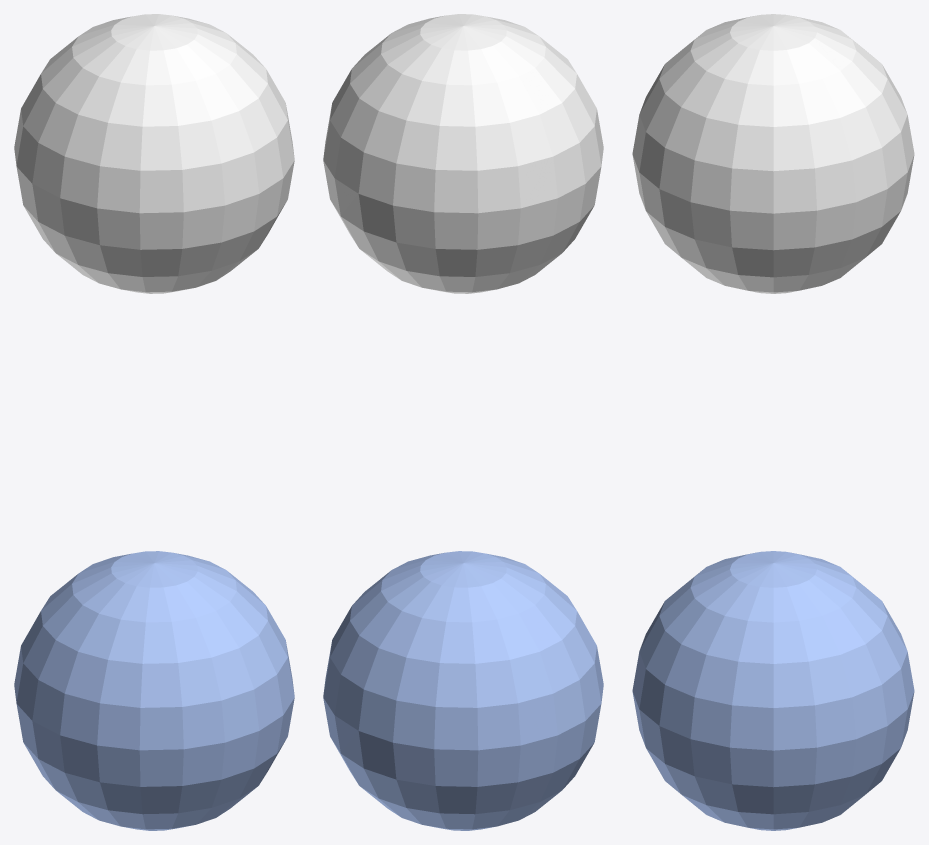
The model's file is EYE_P_LINK_mesh.dae.
The picture shows the model from 3 angles, left to right: view 1: azimuth 30°, elevation 25°; view 2: azimuth 150°, elevation 25°; view 3: azimuth 270°, elevation 25°; orthographic projection.
Parts seen in each view (by area): view 1: EYE_P_LINK (×2); view 2: EYE_P_LINK (×2); view 3: EYE_P_LINK (×2).
Boxes of the visible parts, x1,y1,x2,y2 form: EYE_P_LINK (×2): (14, 14, 294, 830); EYE_P_LINK (×2): (323, 14, 603, 830); EYE_P_LINK (×2): (632, 14, 914, 830).
Bounding box in the file's own units: 0.03 × 0.093 × 0.03.
